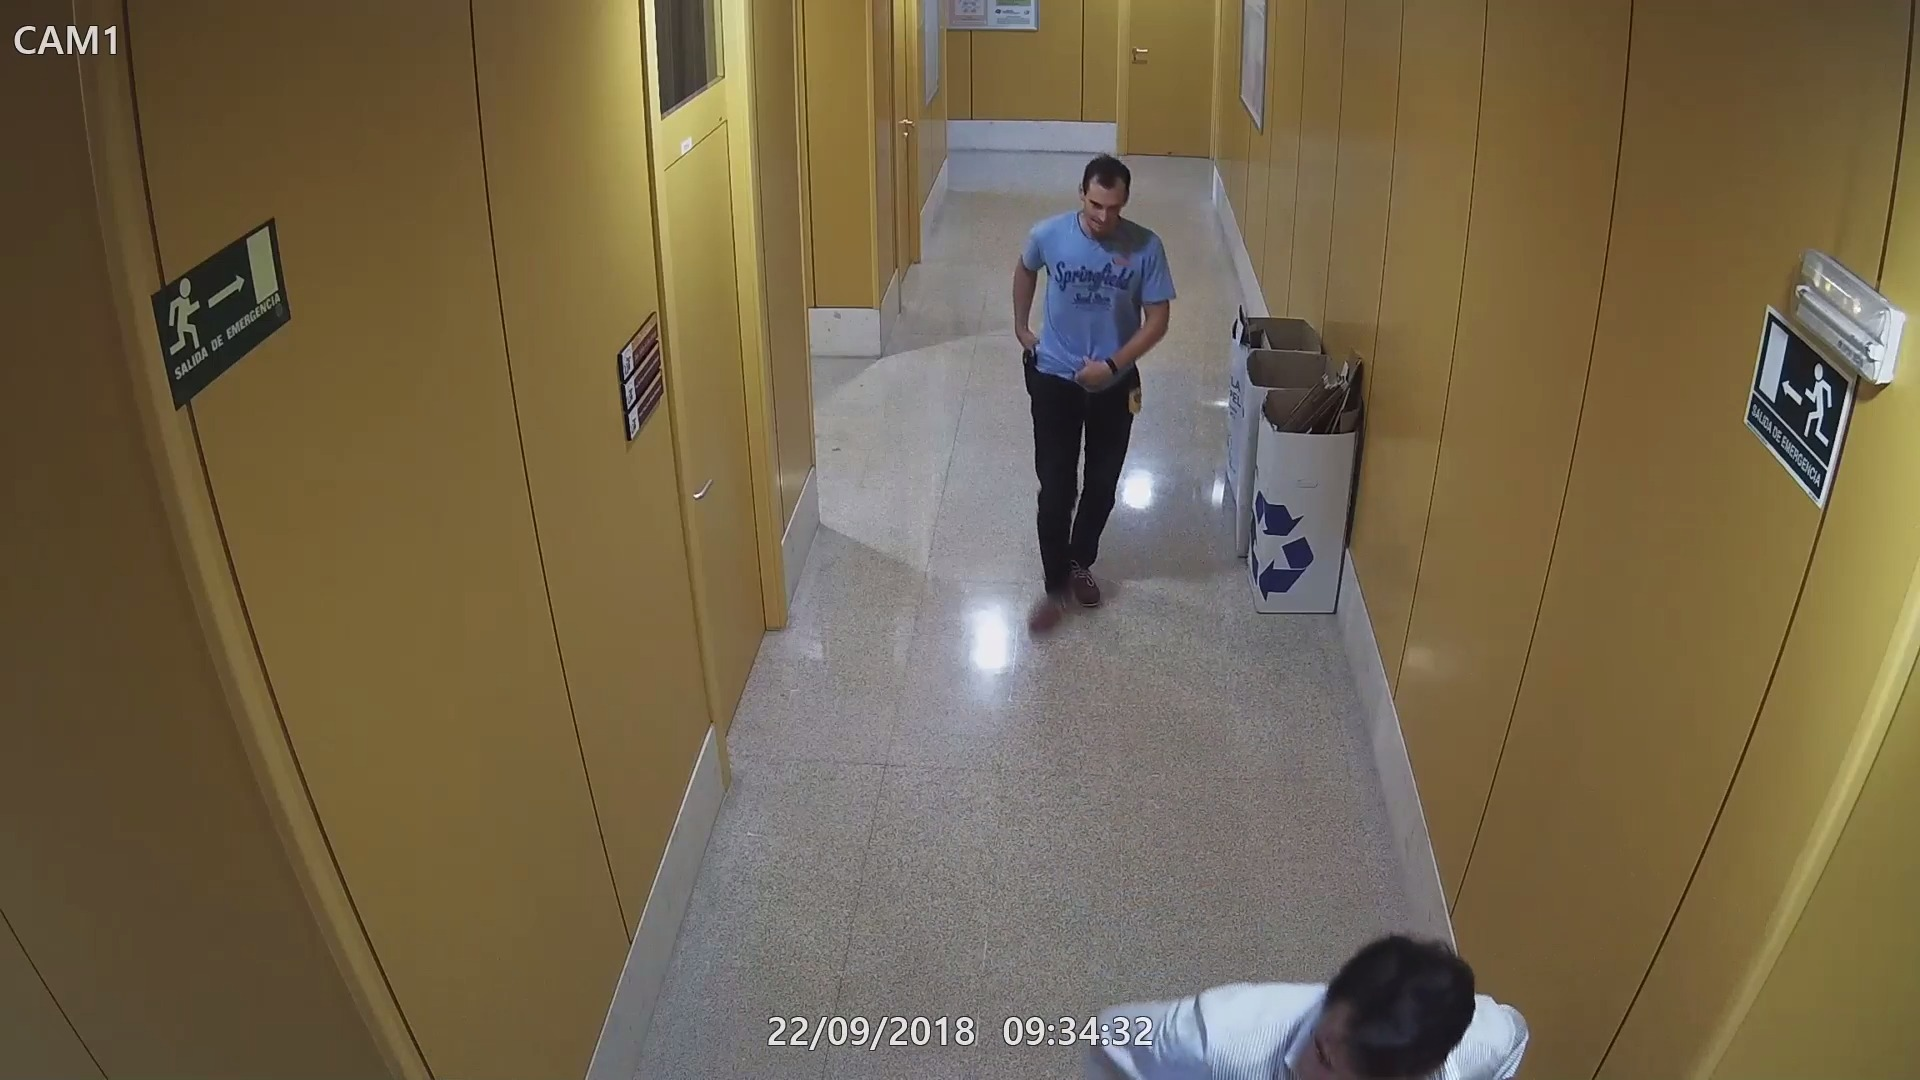Handgun: (1015, 348, 1042, 397)
